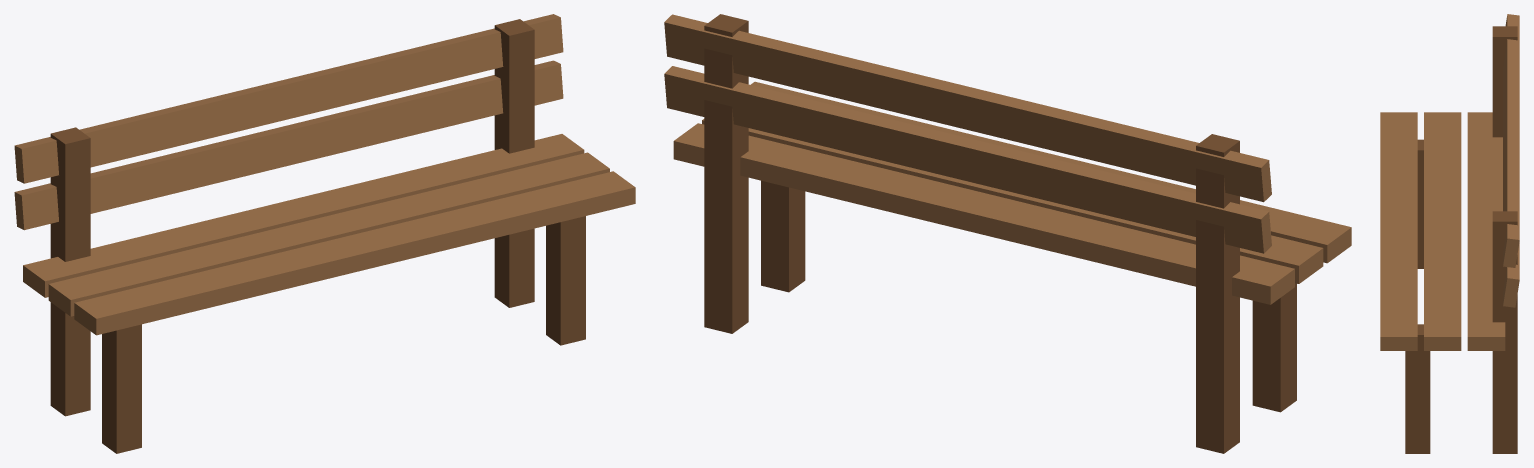
File: prop_plaza_bench_ph.glb
3 views of the same model, side by side, from view 1: azimuth 30°, elevation 25°; view 2: azimuth 150°, elevation 25°; view 3: azimuth 270°, elevation 25° (orthographic). The views are drawn at different scales.
Parts seen in each view (by area): view 1: prop_plaza_bench; view 2: prop_plaza_bench; view 3: prop_plaza_bench.
Part boxes in pixels (left/top/right/bottom): prop_plaza_bench: left=14, top=14, right=635, bottom=453; prop_plaza_bench: left=664, top=14, right=1351, bottom=453; prop_plaza_bench: left=1380, top=14, right=1519, bottom=453.
Size of the model in its own units: 1.7 by 0.82 by 0.4468.
